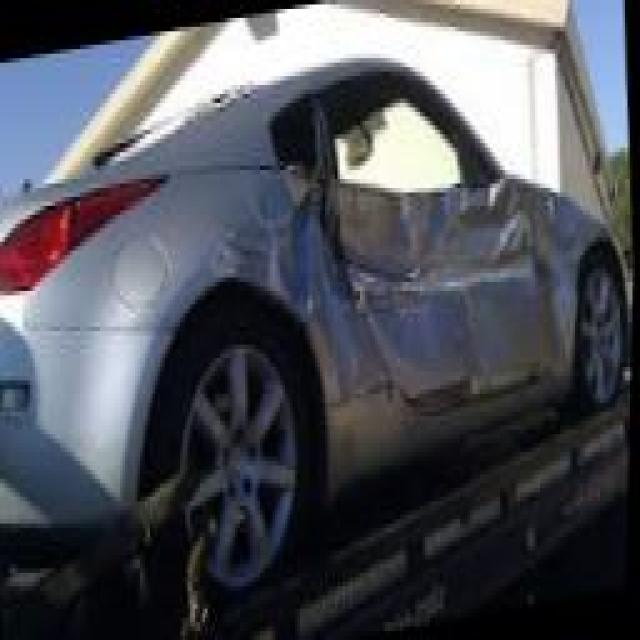Door: (320, 54, 534, 398)
Fender: (202, 166, 321, 322), (525, 179, 594, 380)
